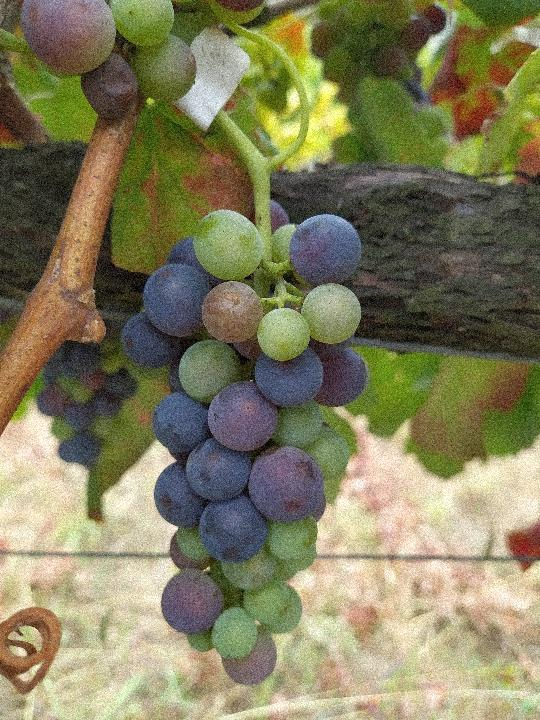grape: (117, 210, 370, 690)
